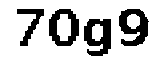0: (47, 4, 81, 51)
7: (10, 5, 47, 50)
9: (115, 7, 152, 53)
g: (81, 17, 115, 60)
